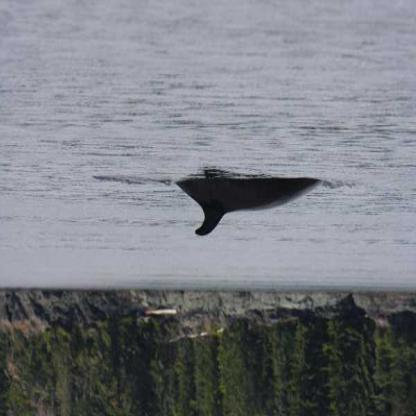dolphin-whale: (171, 172, 326, 240)
